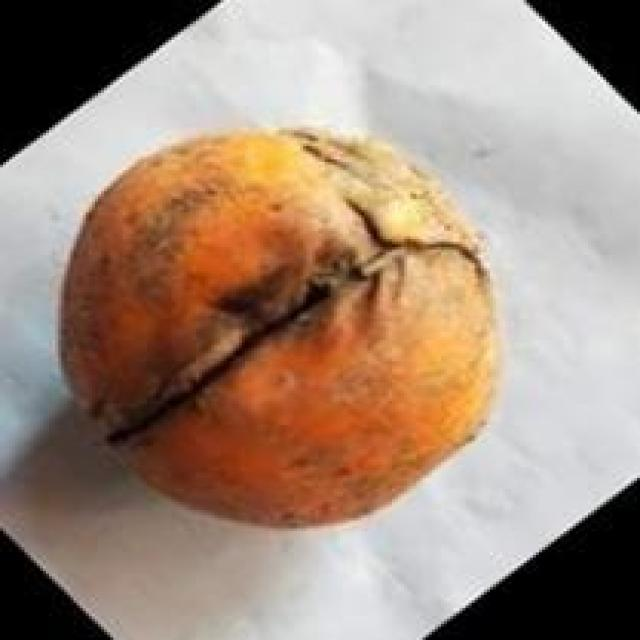damaged: (52, 125, 511, 534)
